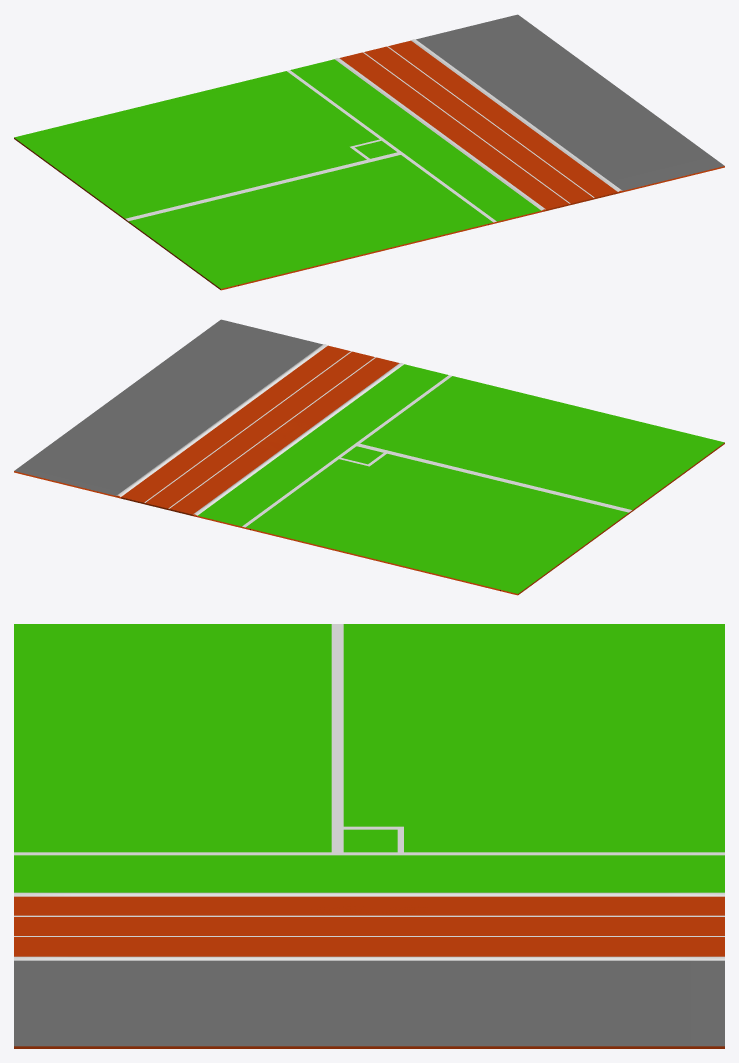
Rendered from AtleticTile.fbx.
3 views of the same model, one above another, from view 1: azimuth 30°, elevation 25°; view 2: azimuth 150°, elevation 25°; view 3: azimuth 270°, elevation 25° (orthographic). The views are drawn at different scales.
Parts seen in each view (by area): view 1: Cube; view 2: Cube; view 3: Cube.
Part boxes in pixels (x1,y1,x2,y2): Cube: (14,14,724,290); Cube: (14,319,724,595); Cube: (14,624,724,1048).
Bounding box in the file's own units: 14053 × 59.49 × 10000.
